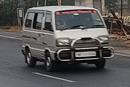Auto: (20, 5, 116, 72)
